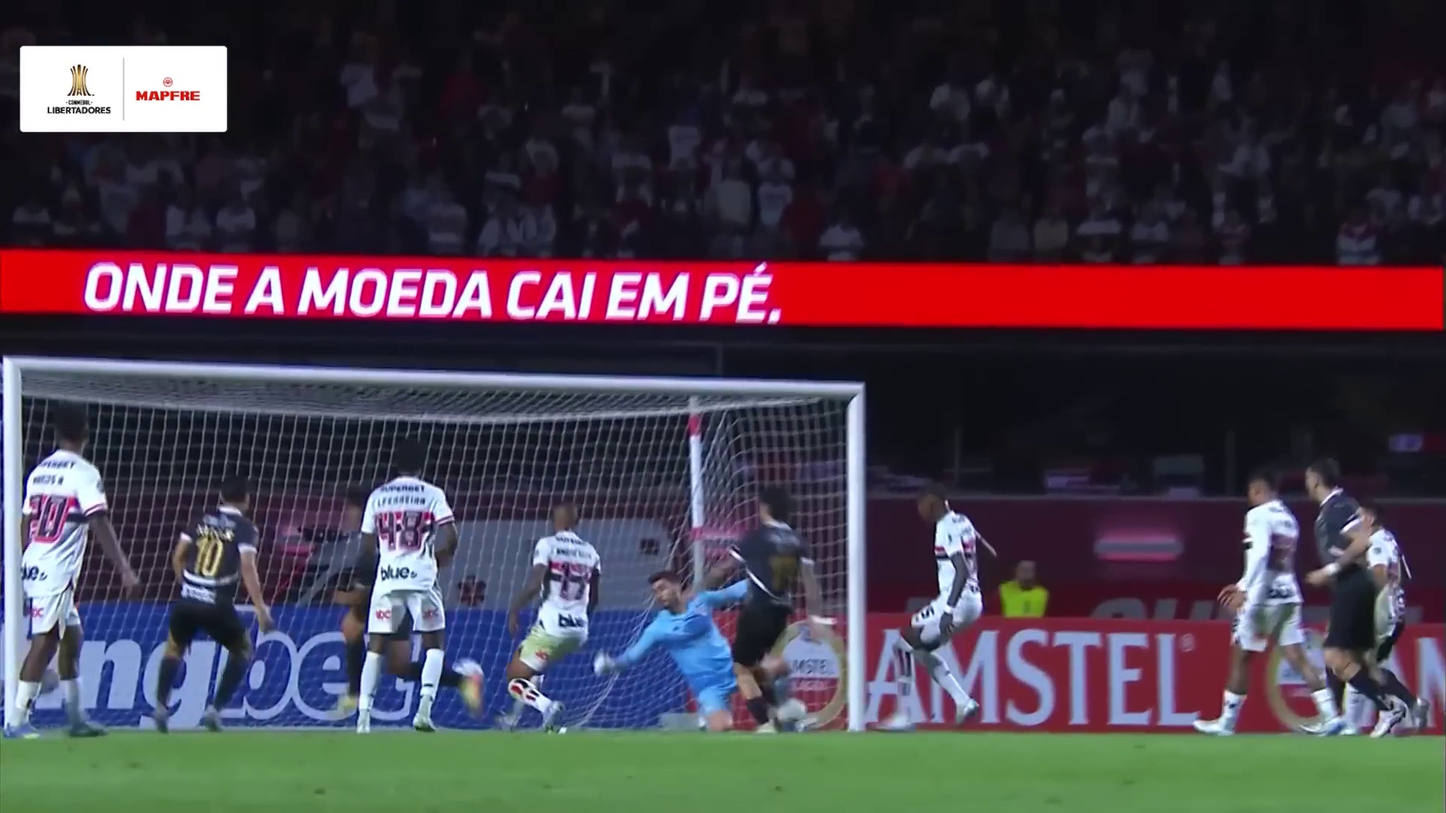player: (4, 405, 143, 744), (1192, 461, 1345, 737), (331, 485, 484, 726), (332, 446, 459, 736), (869, 481, 1002, 735), (148, 474, 274, 734), (1302, 455, 1410, 739), (593, 571, 769, 739), (703, 485, 808, 739), (507, 504, 614, 749), (1346, 499, 1401, 732)
